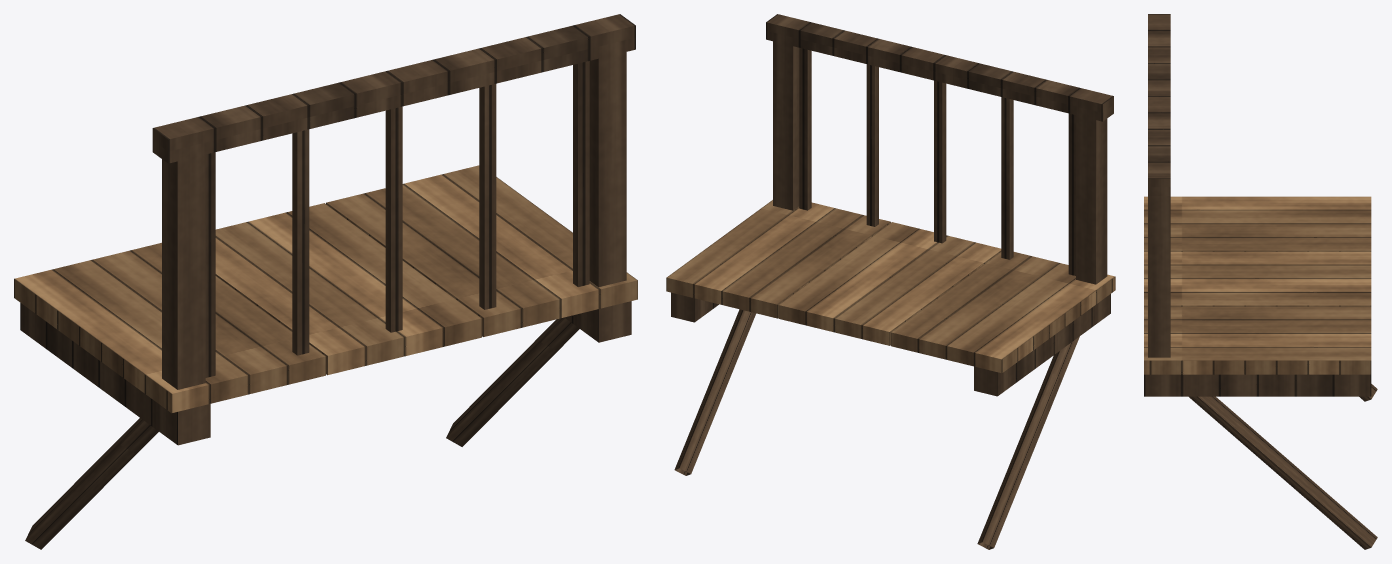
File: Gallery_Wood_1_LOD1.gltf
The picture shows the model from 3 angles, left to right: view 1: azimuth 30°, elevation 25°; view 2: azimuth 150°, elevation 25°; view 3: azimuth 270°, elevation 25°; orthographic projection. The views are drawn at different scales.
Visible parts, largest first — view 1: Gallery_Wood_1_LOD1; view 2: Gallery_Wood_1_LOD1; view 3: Gallery_Wood_1_LOD1.
Part boxes in pixels (box(x1,y1,x2,y2)): Gallery_Wood_1_LOD1: box(14, 14, 637, 549); Gallery_Wood_1_LOD1: box(666, 14, 1115, 549); Gallery_Wood_1_LOD1: box(1144, 14, 1377, 549).
Size of the model in its own units: 2 by 2.15 by 1.2.
Materials: 2 (2 with a texture image).
